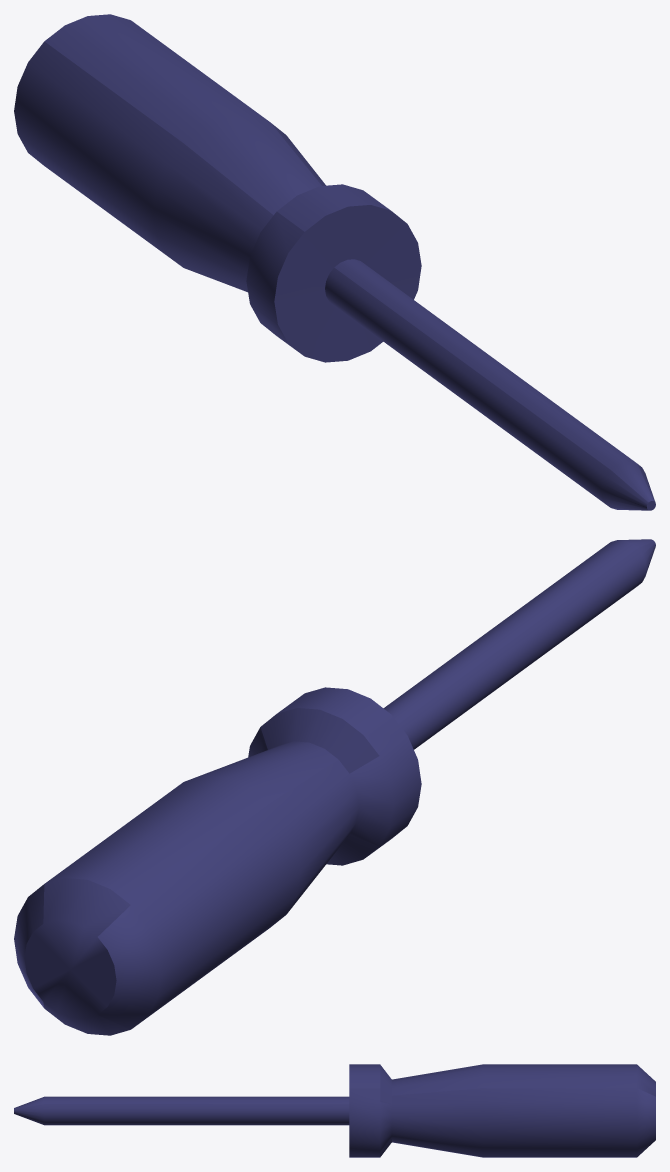
File: Ing_Screw_Driver.fbx
3 renders of one model, top to bottom at view 1: azimuth 30°, elevation 25°; view 2: azimuth 150°, elevation 25°; view 3: azimuth 270°, elevation 25°, orthographic. The views are drawn at different scales.
Parts seen in each view (by area): view 1: Ing_Screw_Driver_low; view 2: Ing_Screw_Driver_low; view 3: Ing_Screw_Driver_low.
Part boxes in pixels (box(x1,y1,x2,y2)): Ing_Screw_Driver_low: box(14, 14, 655, 510); Ing_Screw_Driver_low: box(14, 539, 655, 1035); Ing_Screw_Driver_low: box(14, 1064, 655, 1157).
Size of the model in its own units: 4.76 by 4.76 by 32.54.
